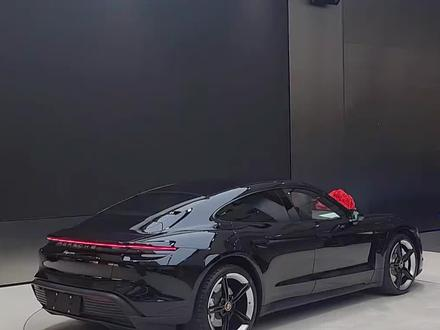other: (34, 175, 429, 330)
